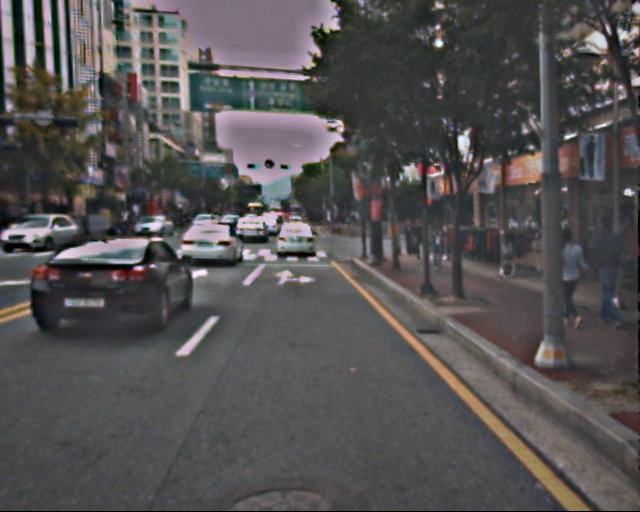person: (583, 214, 630, 327), (545, 221, 588, 327), (428, 220, 448, 270), (411, 218, 430, 262), (402, 217, 418, 256)
